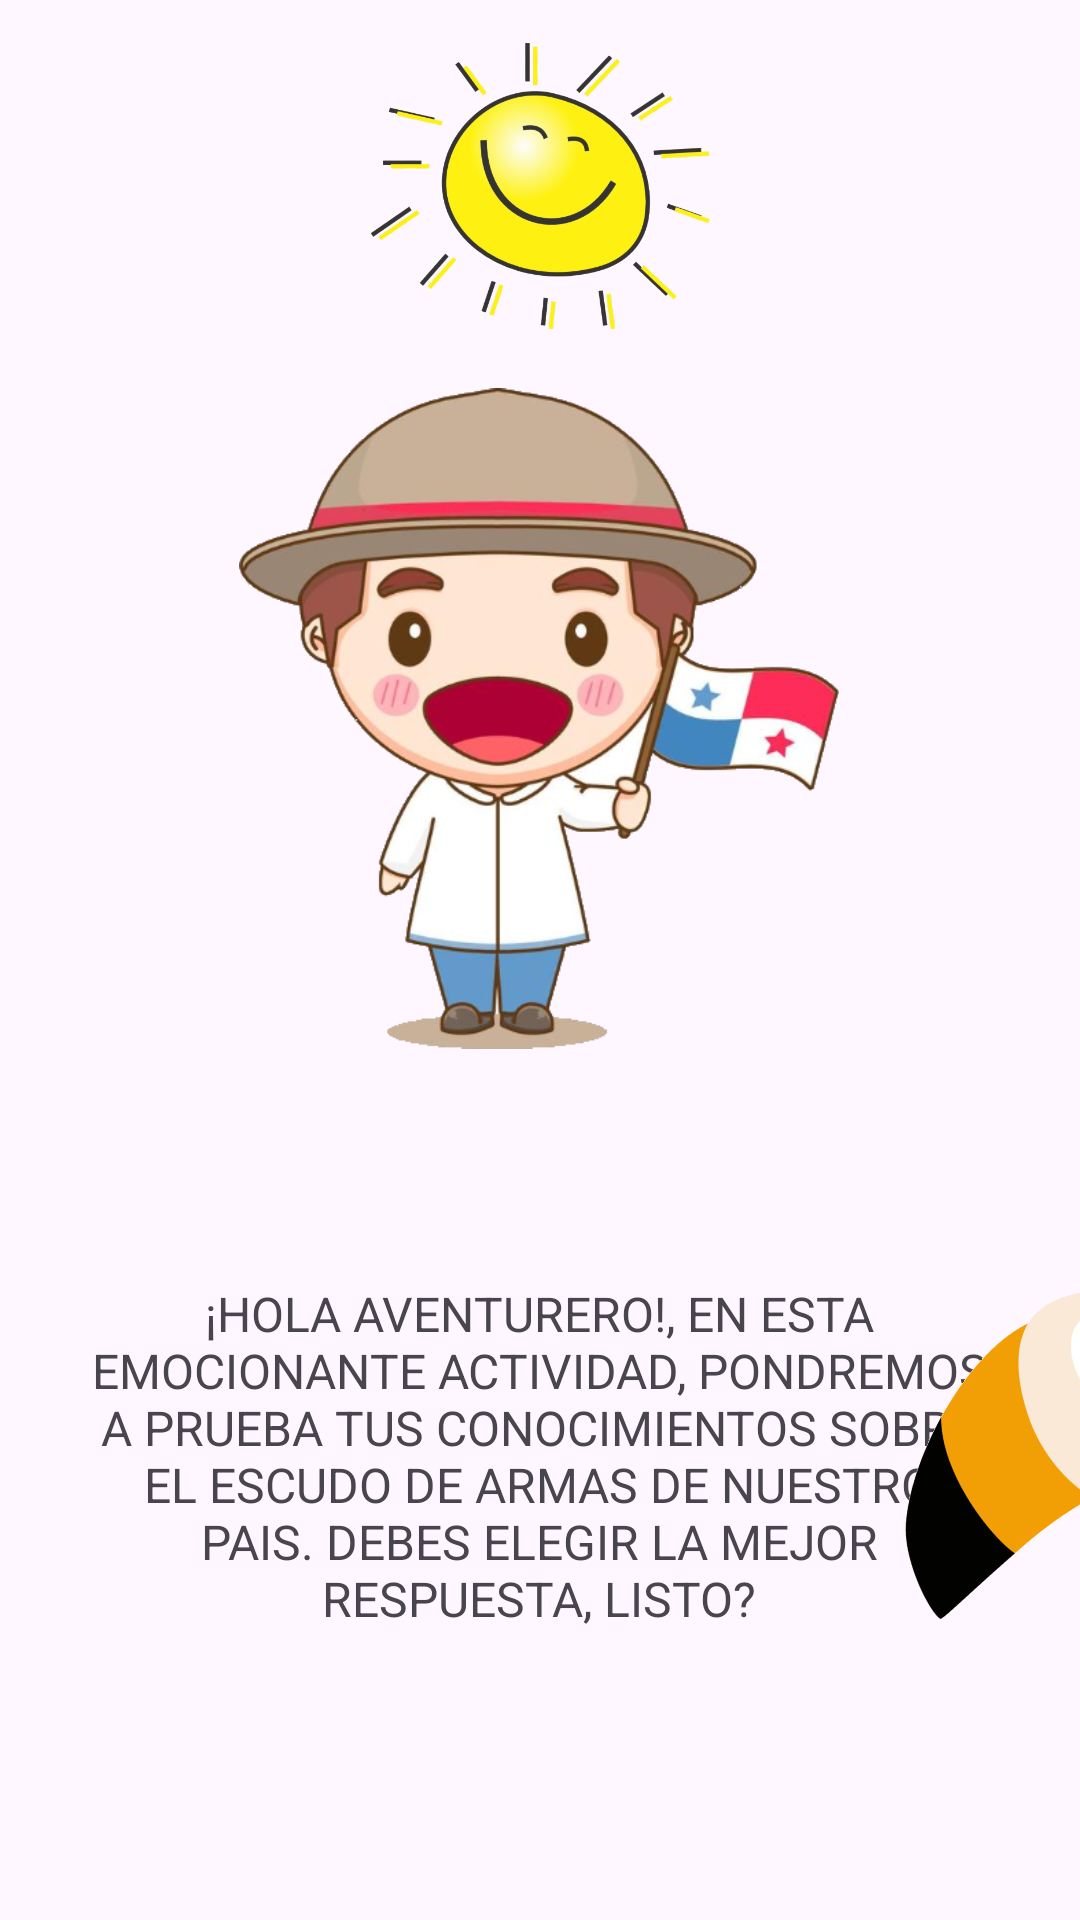

Locate icon controls on the screen. Image size 1080w x 1920h, boxes as region(x1, y1, x2, y2).
sol: region(371, 43, 710, 329)
